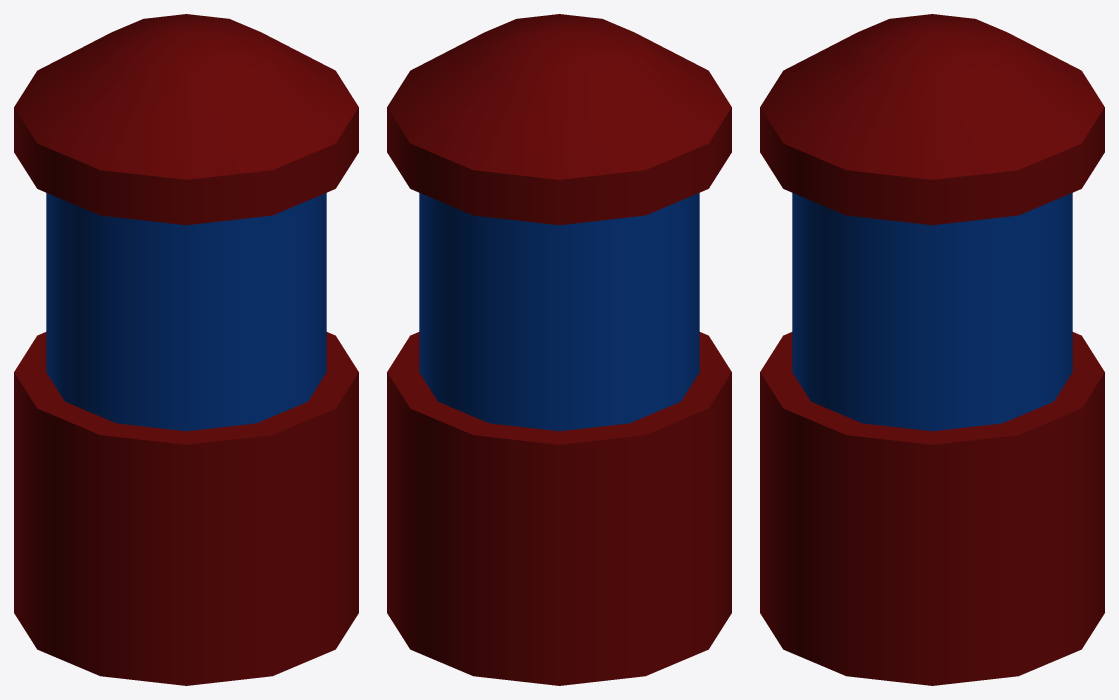
File: RotorArt.fbx
3 views of the same model, side by side, from view 1: azimuth 30°, elevation 25°; view 2: azimuth 150°, elevation 25°; view 3: azimuth 270°, elevation 25° (orthographic).
Visible parts, largest first — view 1: pCylinder18; view 2: pCylinder18; view 3: pCylinder18.
Boxes of the visible parts, x1,y1,x2,y2 form: pCylinder18: (14,14,358,685); pCylinder18: (387,14,731,685); pCylinder18: (760,14,1104,685).
Bounding box in the file's own units: 51.82 × 96.27 × 51.82.
